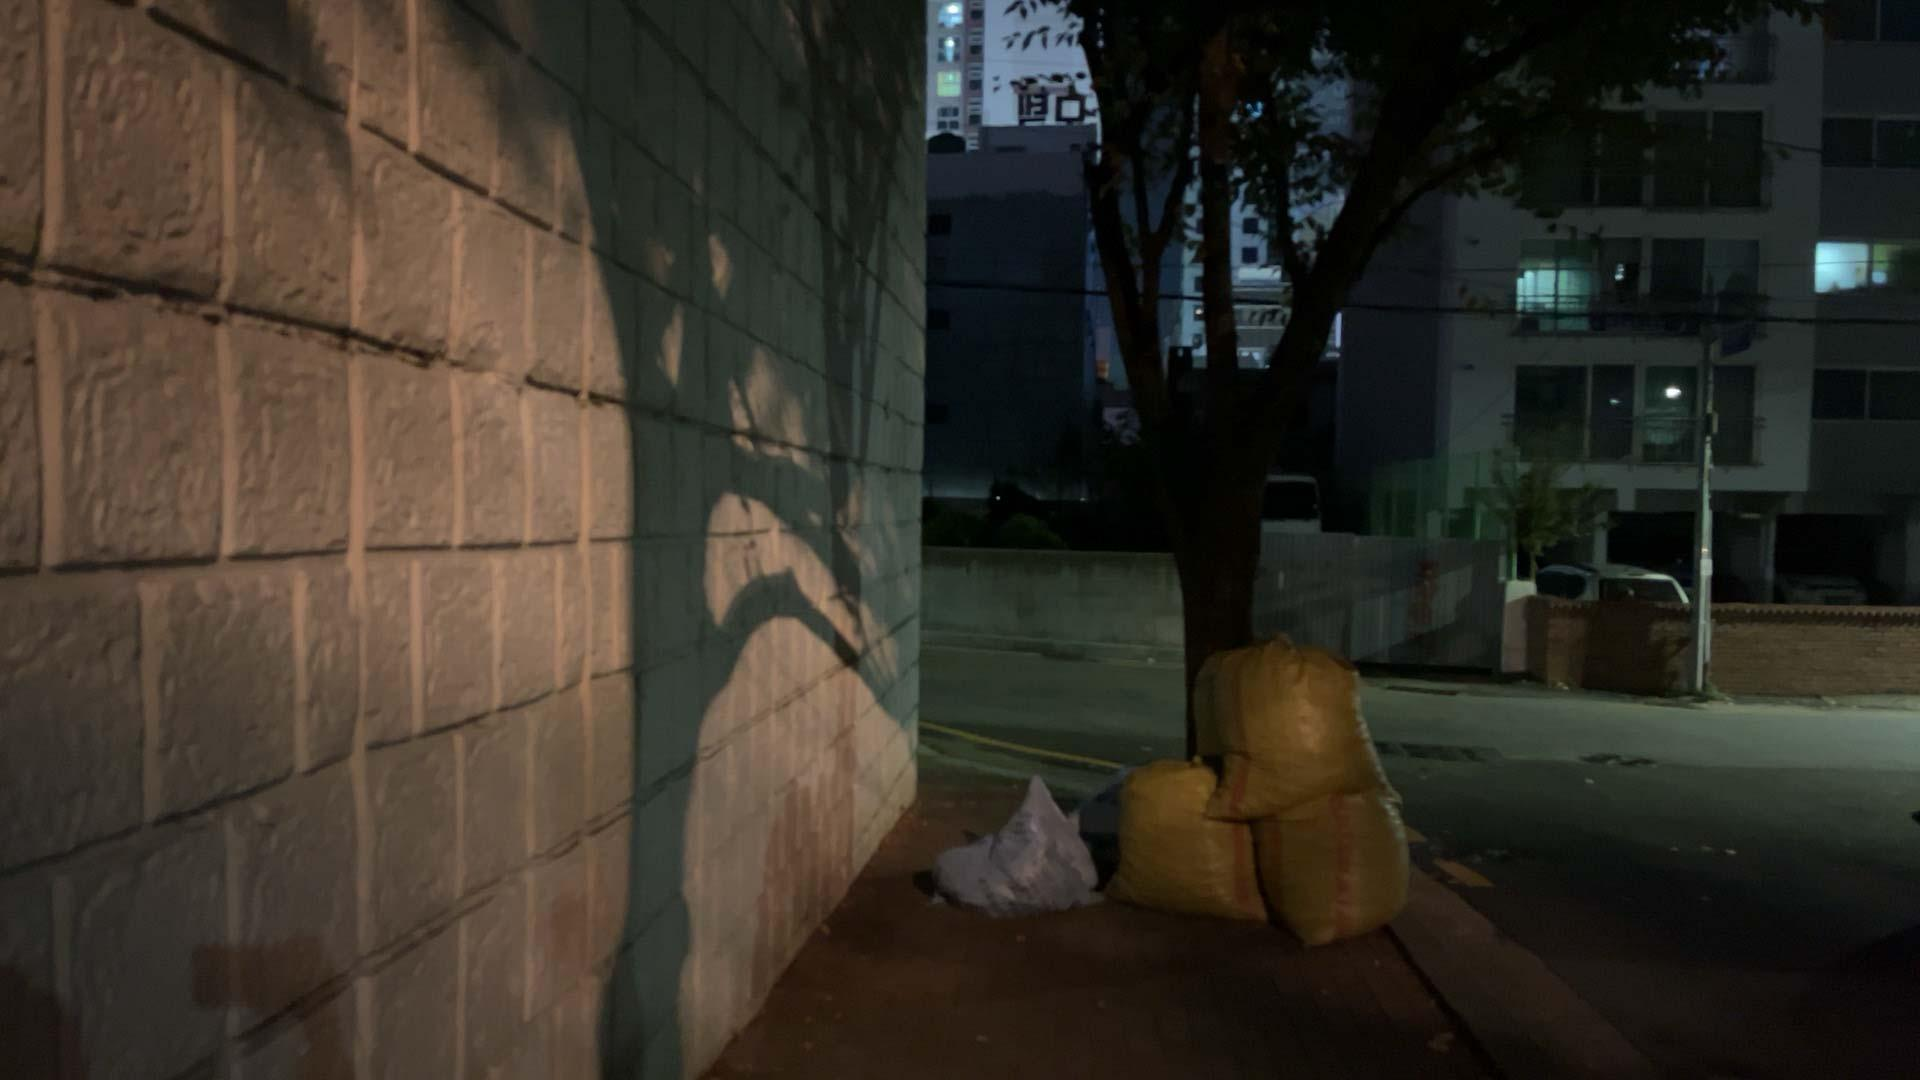white_bag: (916, 773, 1107, 926)
